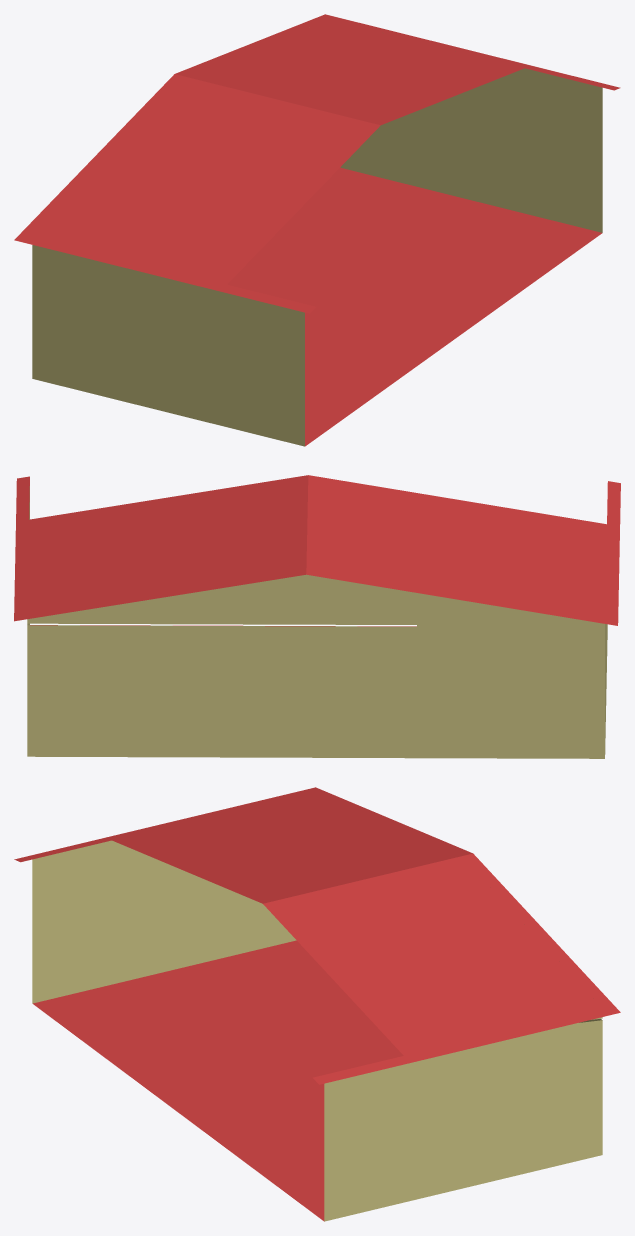
3 views of the same model, one above another, from view 1: azimuth 30°, elevation 25°; view 2: azimuth 150°, elevation 25°; view 3: azimuth 270°, elevation 25° (orthographic). The views are drawn at different scales.
Size of the model in its own units: 39.5 by 33.77 by 11.88.
